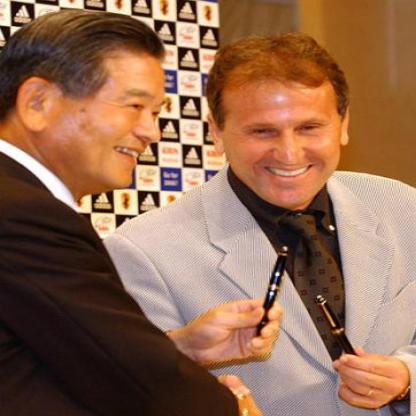face: (48, 19, 195, 191), (220, 44, 342, 210)
